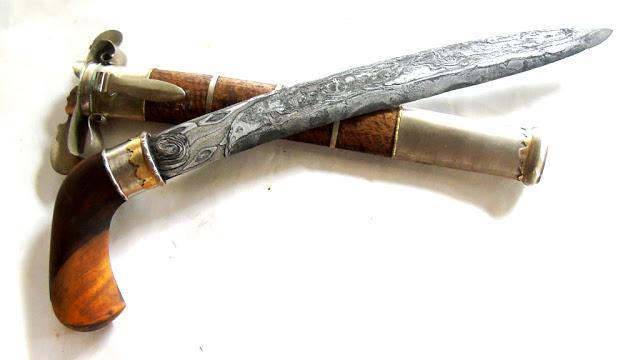facao: (49, 30, 611, 328)
